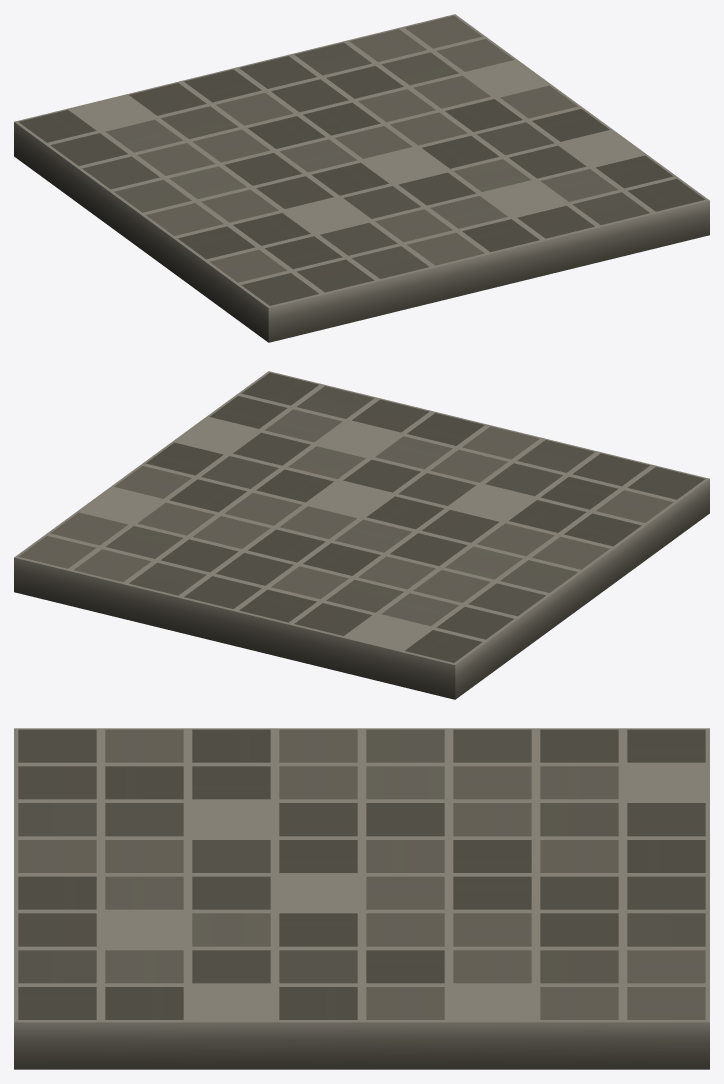
File: Pavement_1R_4x4.fbx
The picture shows the model from 3 angles, top to bottom: view 1: azimuth 30°, elevation 25°; view 2: azimuth 150°, elevation 25°; view 3: azimuth 270°, elevation 25°; orthographic projection. The views are drawn at different scales.
Visible parts, largest first — view 1: Pavement_1R_4x4; view 2: Pavement_1R_4x4; view 3: Pavement_1R_4x4.
Boxes of the visible parts, x1,y1,x2,y2 form: Pavement_1R_4x4: (14,14,709,342); Pavement_1R_4x4: (14,371,709,699); Pavement_1R_4x4: (14,728,709,1069).
Bounding box in the file's own units: 4 × 0.3031 × 4.
